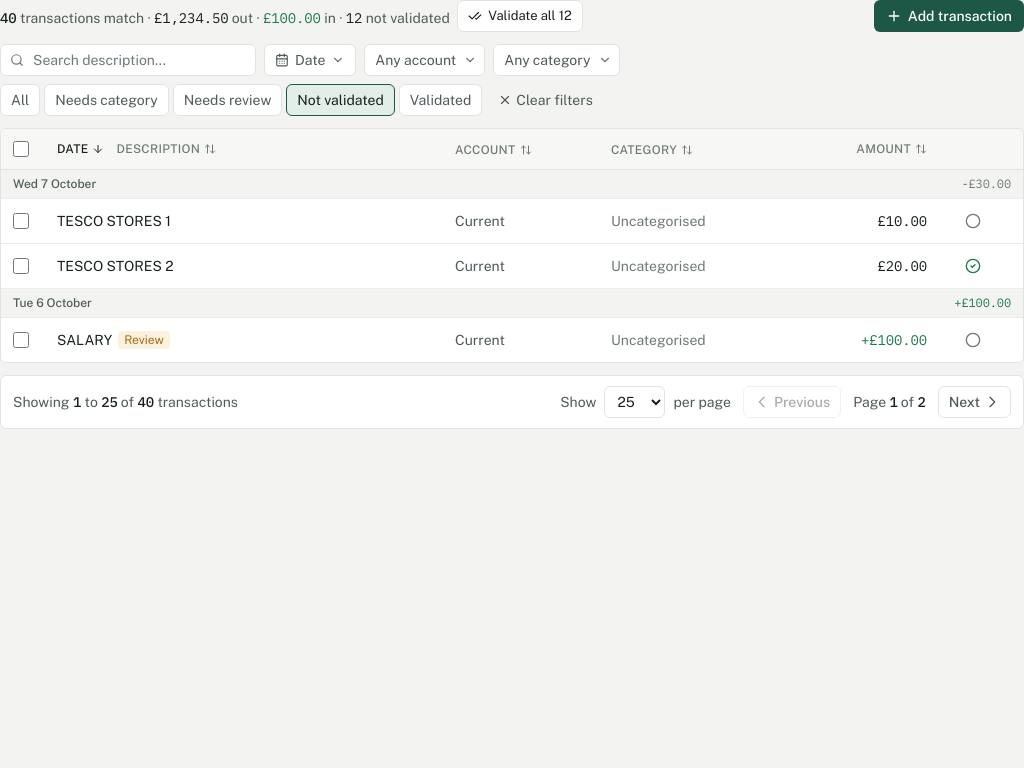
Transactions page › validates everything matching the filters after a confirm, with Undo
Check: the element with test id "transactions-summary" shows "12 not validated", box [0, 4, 583, 28]
Click the button "Validate all 12" at (520, 16), box [457, 0, 583, 32]
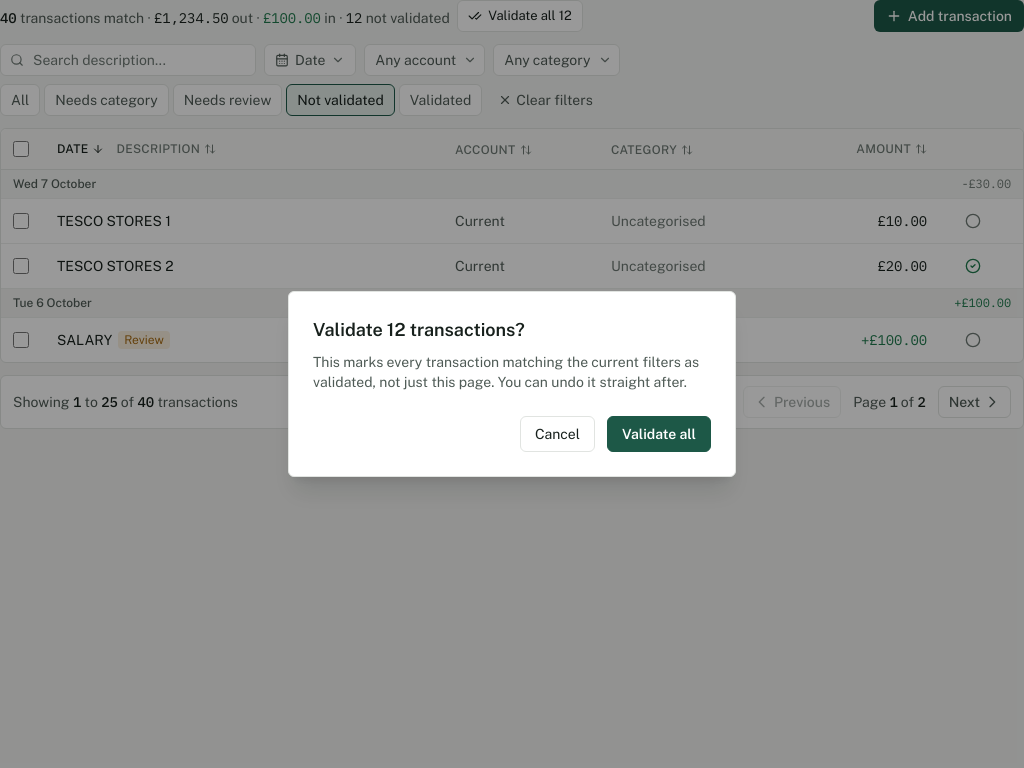
Check: the dialog shows "every transaction matching the current filters", box [313, 354, 699, 390]
Click the button "Validate all" at (659, 434), box [607, 416, 711, 452]
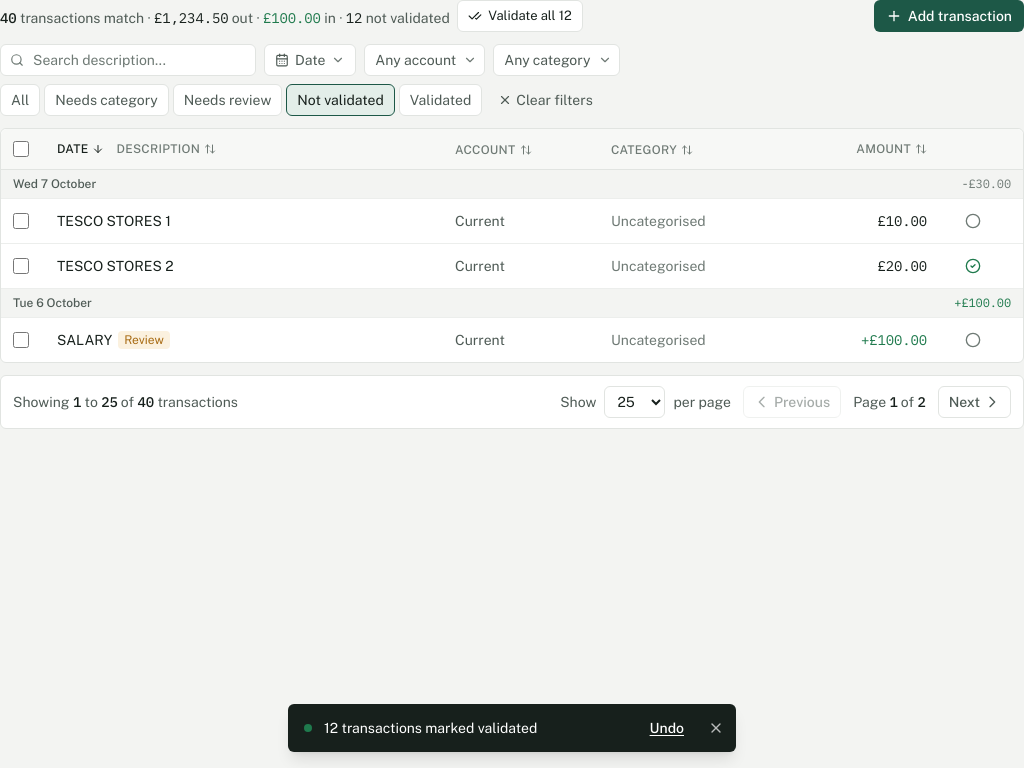
Check: the text "12 transactions marked validated" is shown, box [324, 720, 537, 736]
Click the button "Undo" at (667, 728), box [642, 714, 692, 742]
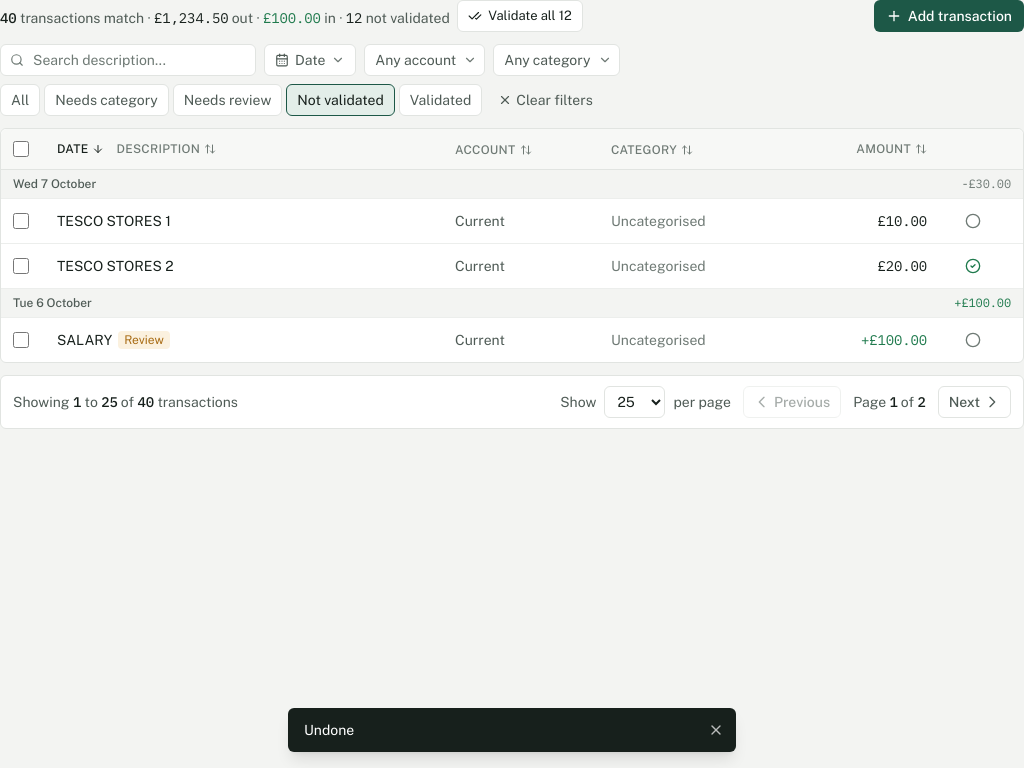
Check: the text "Undone" is shown, box [304, 722, 354, 738]
